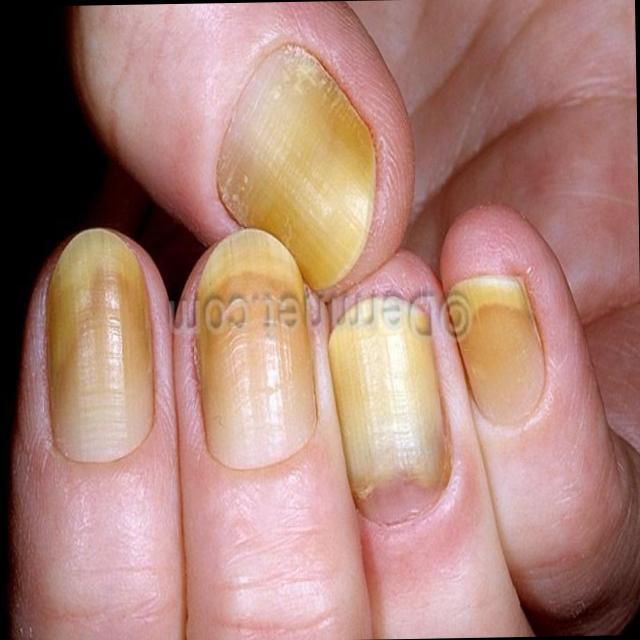Nail: (216, 43, 371, 291), (193, 228, 317, 467), (325, 295, 449, 522), (43, 227, 148, 461), (449, 276, 543, 419)
